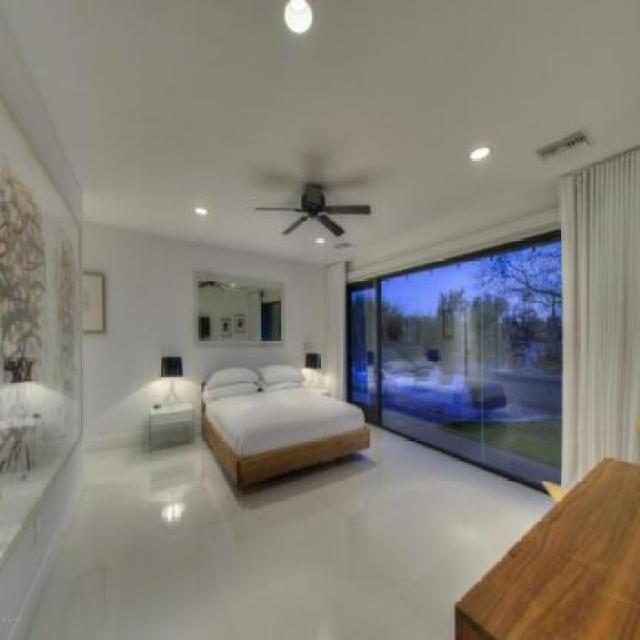Floor: (24, 421, 555, 639)
